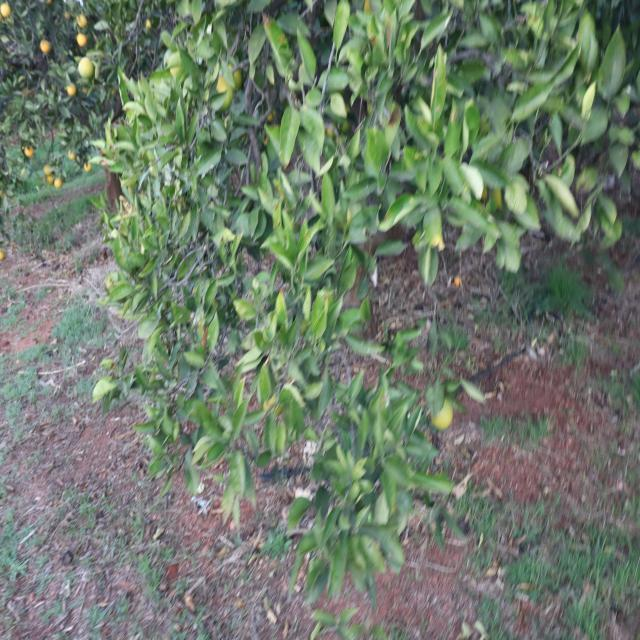Jeruk Belum Matang: (432, 398, 453, 432), (217, 67, 243, 93), (79, 58, 92, 80)
